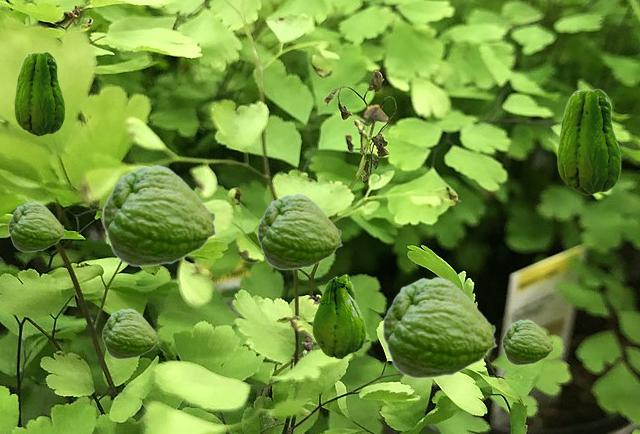sayote: (102, 164, 217, 266), (382, 276, 497, 378), (557, 88, 620, 194), (257, 193, 342, 269), (312, 274, 365, 358), (14, 51, 64, 135), (8, 201, 64, 251), (102, 308, 158, 358), (502, 319, 553, 364)
